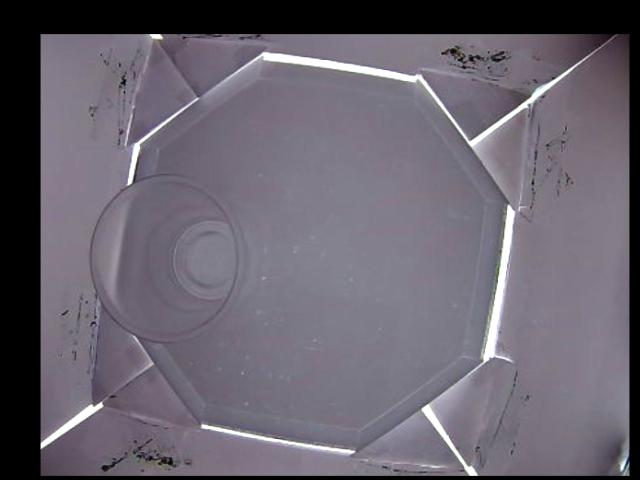Cup: (87, 170, 250, 343)
